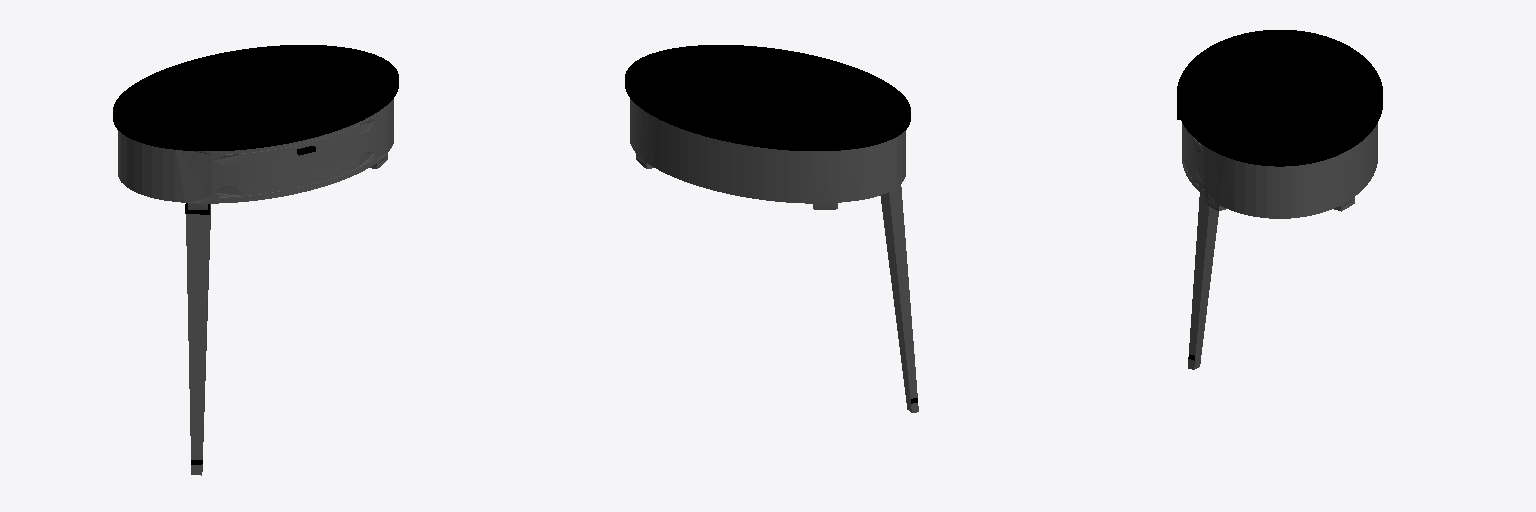
3 renders of one model, left to right at view 1: azimuth 30°, elevation 25°; view 2: azimuth 150°, elevation 25°; view 3: azimuth 270°, elevation 25°, orthographic.
Parts seen in each view (by area): view 1: pietra_gre, Obj_000015, Obj_000014, Obj_000002.Obj_18.Obj_19.Obj_20_Obj_000002; view 2: pietra_gre, Obj_000015, Obj_000002.Obj_18.Obj_19.Obj_20_Obj_000002; view 3: pietra_gre, Obj_000015, Obj_000002.Obj_18.Obj_19.Obj_20_Obj_000002, Obj_000014.
Boxes of the visible parts, x1=… form: pietra_gre: x1=113, y1=45, x2=398, y2=150; Obj_000015: x1=118, y1=99, x2=393, y2=209; Obj_000014: x1=212, y1=115, x2=375, y2=197; Obj_000002.Obj_18.Obj_19.Obj_20_Obj_000002: x1=186, y1=209, x2=210, y2=475; pietra_gre: x1=625, y1=45, x2=910, y2=150; Obj_000015: x1=630, y1=99, x2=905, y2=209; Obj_000002.Obj_18.Obj_19.Obj_20_Obj_000002: x1=880, y1=184, x2=918, y2=412; pietra_gre: x1=1177, y1=30, x2=1382, y2=166; Obj_000015: x1=1182, y1=123, x2=1377, y2=218; Obj_000002.Obj_18.Obj_19.Obj_20_Obj_000002: x1=1188, y1=193, x2=1218, y2=369; Obj_000014: x1=1182, y1=123, x2=1203, y2=188.
Size of the model in its own units: 0.65 by 0.75 by 0.4358.